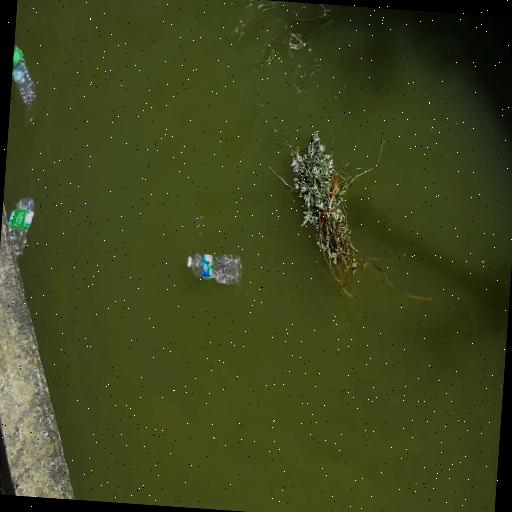plastic: (186, 254, 241, 284), (7, 198, 33, 257), (12, 47, 35, 108)
twig: (290, 131, 360, 275)
